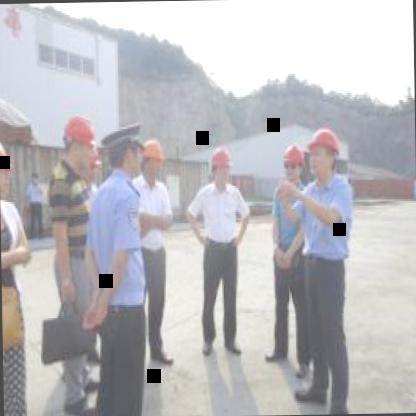head: (98, 114, 146, 186)
helmet: (57, 109, 102, 174), (305, 123, 341, 180), (141, 134, 165, 181), (207, 143, 232, 188), (0, 132, 16, 199), (280, 142, 307, 180)
